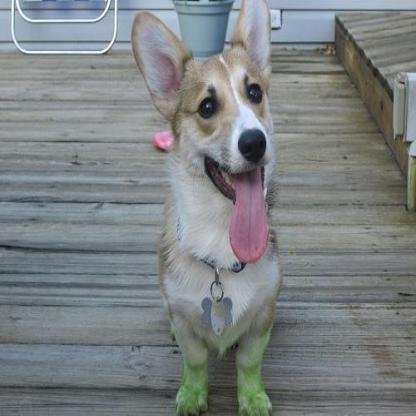Pembroke: (129, 1, 277, 414)
